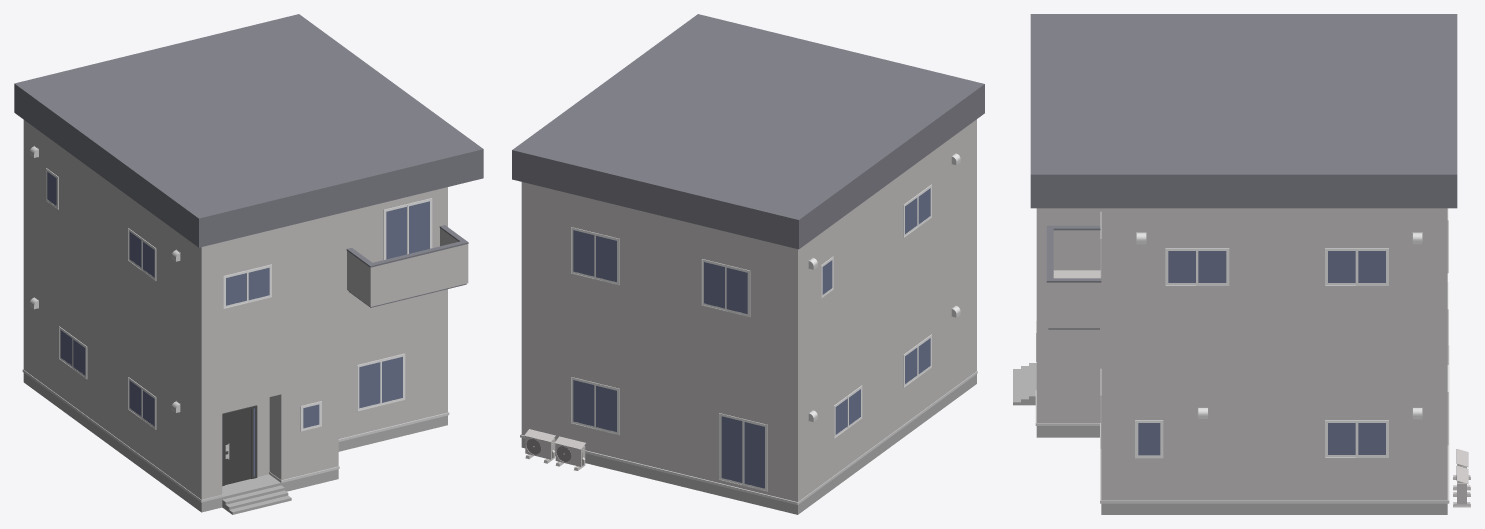
Rendered from MobHouse53.fbx.
The picture shows the model from 3 angles, left to right: view 1: azimuth 30°, elevation 25°; view 2: azimuth 150°, elevation 25°; view 3: azimuth 270°, elevation 25°; orthographic projection. The views are drawn at different scales.
Parts seen in each view (by area): view 1: Flat_half_house02.012; view 2: Flat_half_house02.012; view 3: Flat_half_house02.012.
Boxes of the visible parts, bbox=[...] form: Flat_half_house02.012: bbox=[14, 14, 483, 514]; Flat_half_house02.012: bbox=[512, 14, 984, 514]; Flat_half_house02.012: bbox=[1013, 14, 1470, 514].
Bounding box in the file's own units: 7.68 × 7.66 × 9.26.
